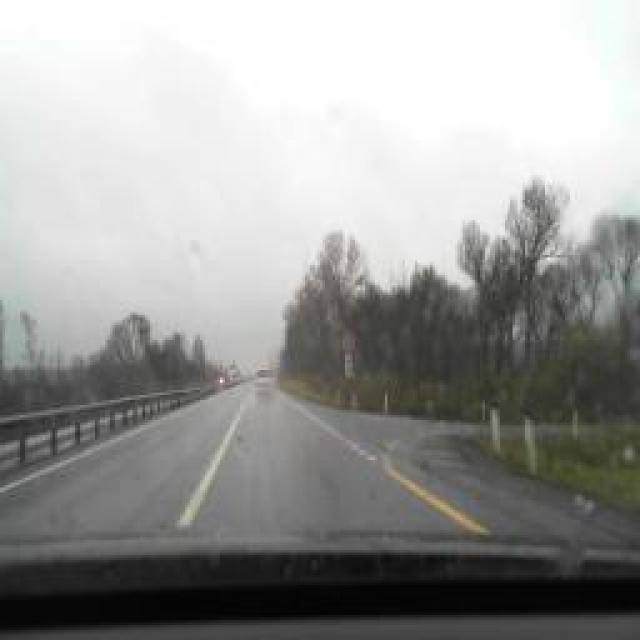sign: (341, 330, 354, 352)
